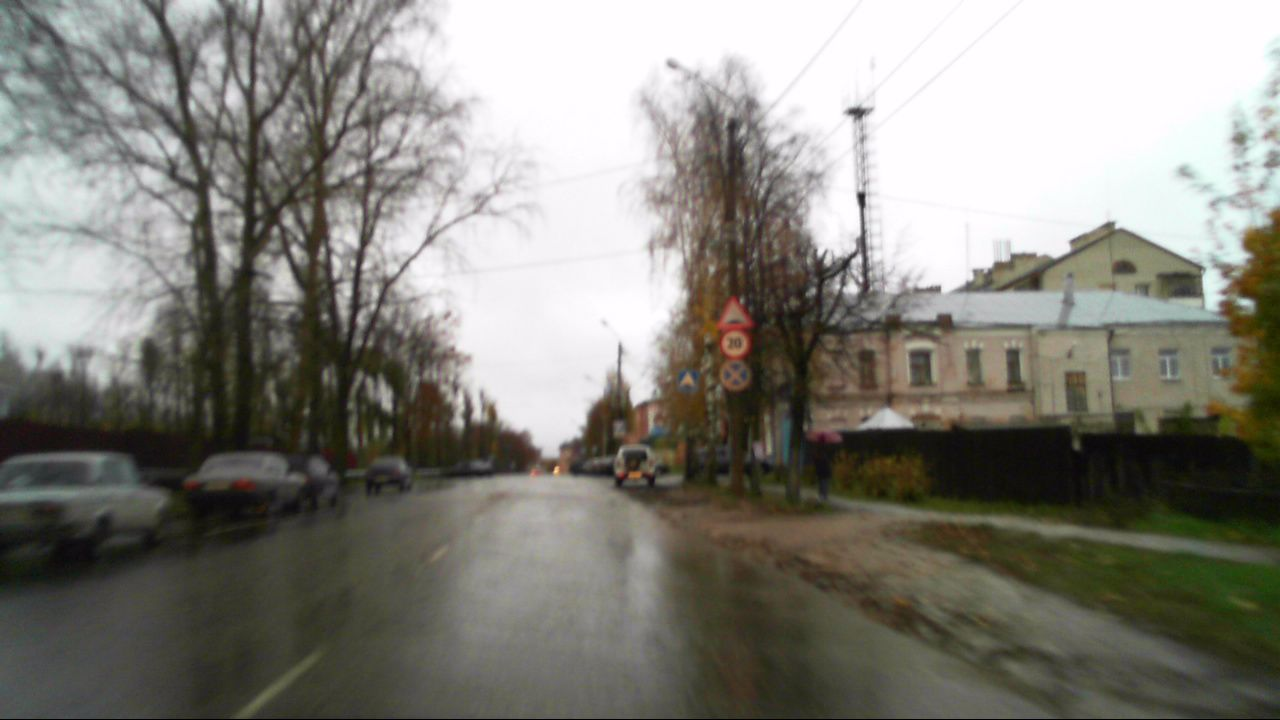No Parking: (719, 358, 752, 393)
